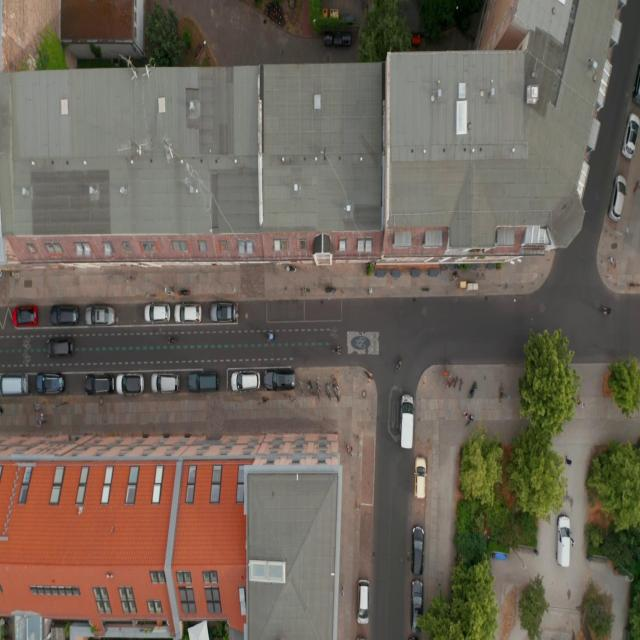Car: (608, 174, 628, 221), (620, 113, 640, 158), (556, 515, 572, 566), (263, 368, 296, 391), (400, 395, 414, 447), (188, 371, 220, 393), (35, 372, 66, 394), (231, 370, 261, 392), (85, 306, 116, 327), (150, 372, 179, 394), (115, 373, 144, 395), (0, 374, 29, 396), (50, 305, 79, 327), (411, 579, 423, 631), (11, 305, 38, 328), (84, 373, 112, 395), (46, 337, 74, 359), (412, 526, 424, 576), (357, 580, 370, 624), (414, 455, 427, 499), (174, 303, 201, 324), (144, 303, 172, 323), (210, 302, 238, 322), (333, 31, 343, 47), (600, 304, 612, 316), (341, 33, 351, 47), (324, 32, 334, 46), (469, 381, 477, 398), (264, 332, 275, 342), (332, 345, 342, 354), (396, 356, 402, 371), (325, 286, 336, 294), (286, 265, 297, 272), (301, 287, 310, 295), (180, 289, 190, 296), (452, 271, 459, 281), (566, 455, 572, 466), (168, 335, 175, 344), (421, 286, 430, 292), (368, 288, 372, 294)
Van: (387, 385, 403, 443), (627, 50, 640, 116)
